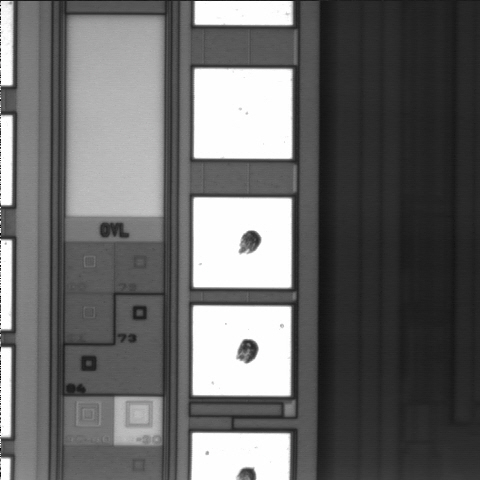pad: (193, 197, 292, 288), (194, 69, 292, 159), (193, 306, 291, 396)
